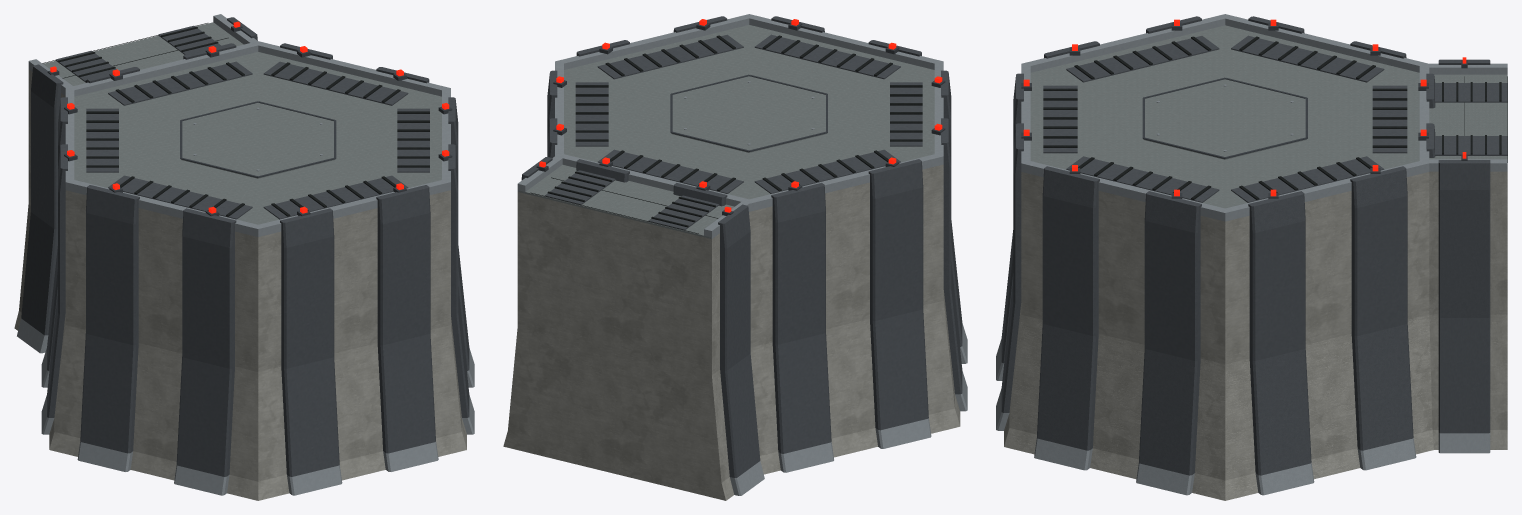
Rendered from terminal.glb.
The picture shows the model from 3 angles, left to right: view 1: azimuth 30°, elevation 25°; view 2: azimuth 150°, elevation 25°; view 3: azimuth 270°, elevation 25°; orthographic projection. The views are drawn at different scales.
Parts seen in each view (by area): view 1: terminal-lod0-roof0, terminal-lod0-base0, terminal-lod0-floor0, terminal-lod0-roof0-link-n, terminal-lod0-base0-link-n, terminal-lod0-floor0-link-n; view 2: terminal-lod0-roof0, terminal-lod0-base0-link-n, terminal-lod0-floor0-link-n, terminal-lod0-base0, terminal-lod0-floor0, terminal-lod0-roof0-link-n; view 3: terminal-lod0-roof0, terminal-lod0-base0, terminal-lod0-floor0, terminal-lod0-base0-link-n, terminal-lod0-floor0-link-n, terminal-lod0-roof0-link-n.
Part boxes in pixels (x1,y1,x2,y2): terminal-lod0-roof0: [58, 41, 458, 251]; terminal-lod0-base0: [41, 246, 474, 500]; terminal-lod0-floor0: [58, 145, 458, 371]; terminal-lod0-roof0-link-n: [28, 14, 261, 107]; terminal-lod0-base0-link-n: [14, 204, 57, 353]; terminal-lod0-floor0-link-n: [28, 83, 59, 228]; terminal-lod0-roof0: [547, 14, 951, 225]; terminal-lod0-base0-link-n: [503, 328, 764, 500]; terminal-lod0-floor0-link-n: [517, 206, 750, 375]; terminal-lod0-base0: [750, 220, 967, 474]; terminal-lod0-floor0: [547, 119, 951, 347]; terminal-lod0-roof0-link-n: [517, 153, 750, 253]; terminal-lod0-roof0: [1013, 14, 1435, 236]; terminal-lod0-base0: [996, 230, 1433, 500]; terminal-lod0-floor0: [1013, 124, 1429, 364]; terminal-lod0-base0-link-n: [1429, 314, 1507, 453]; terminal-lod0-floor0-link-n: [1429, 186, 1507, 317]; terminal-lod0-roof0-link-n: [1421, 57, 1507, 189].
Size of what is drawn, in the model's own units: 65.13 by 40.38 by 65.22.
7 materials, 7 textured.
